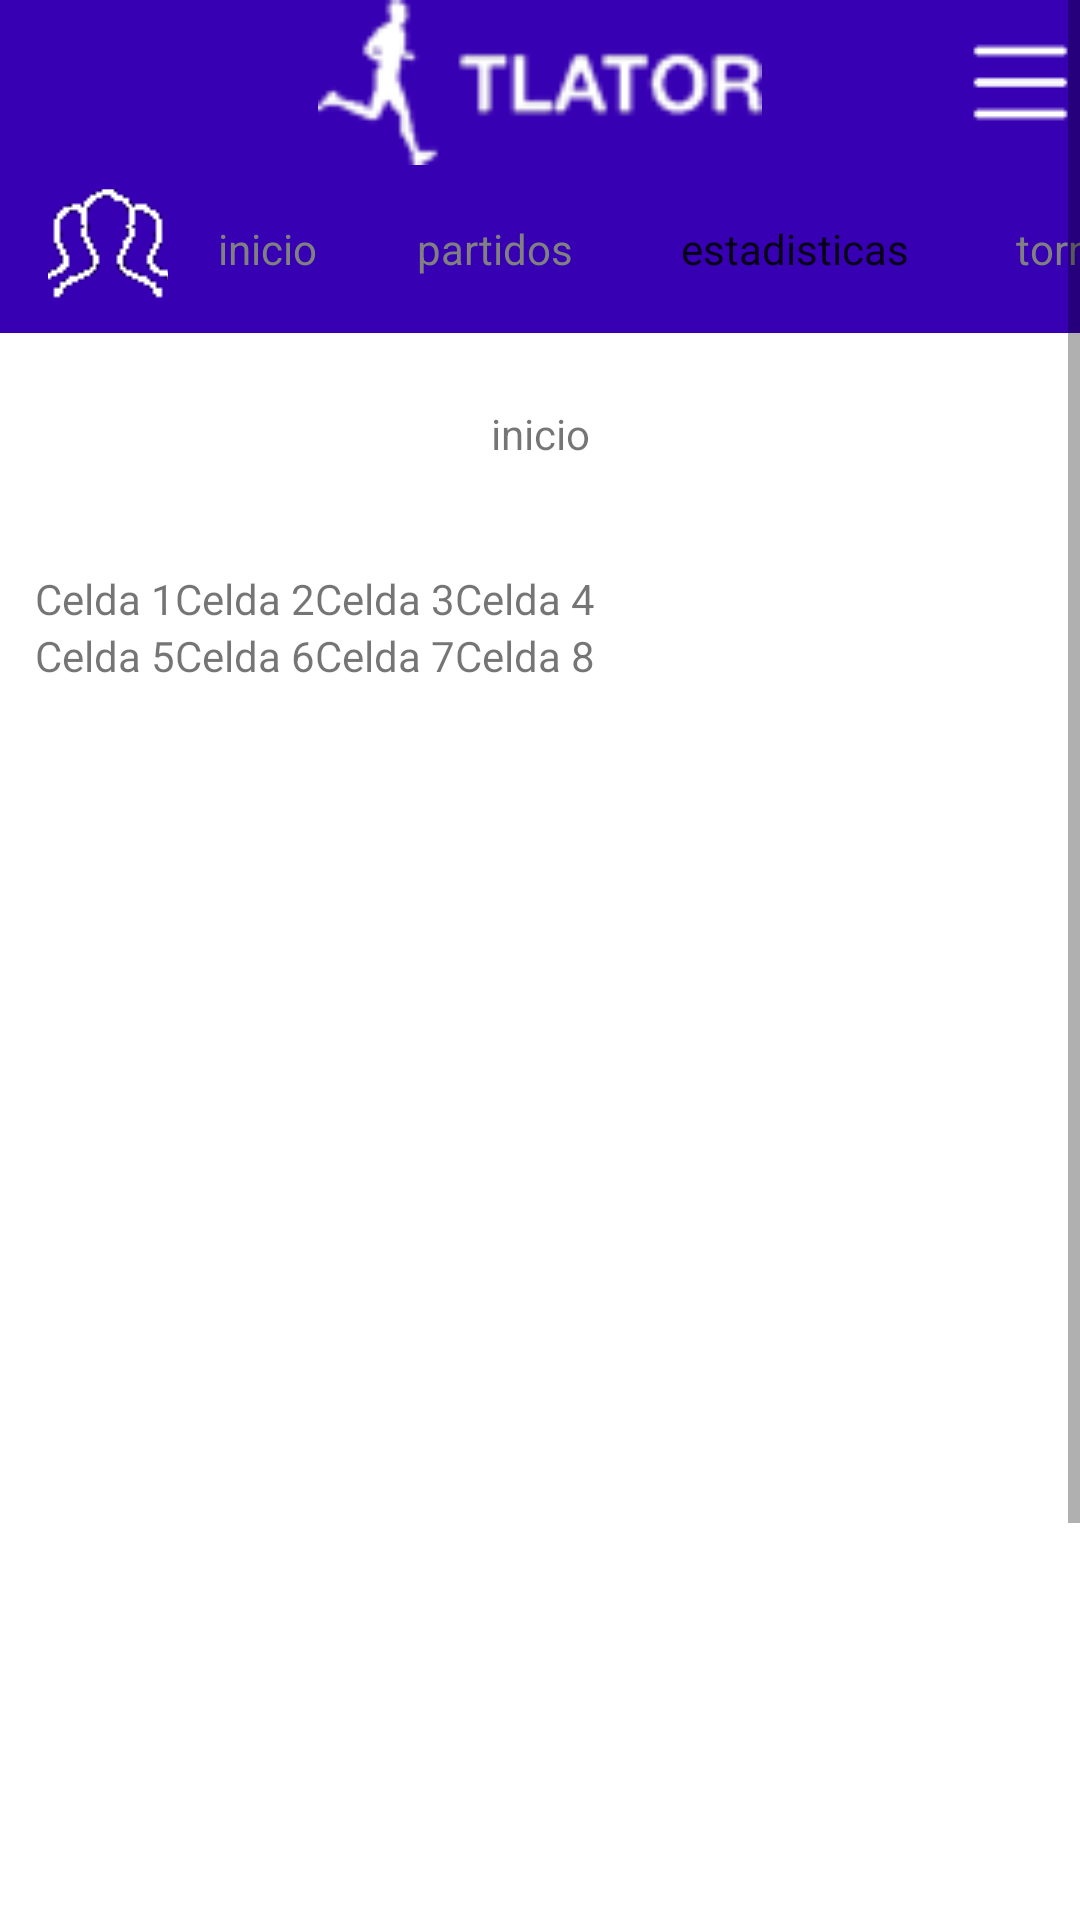

Where to tap for icons on this 1080*1920 app screen, as (x=x, y=y):
menu: (x=1026, y=82)
users: (x=108, y=243)
